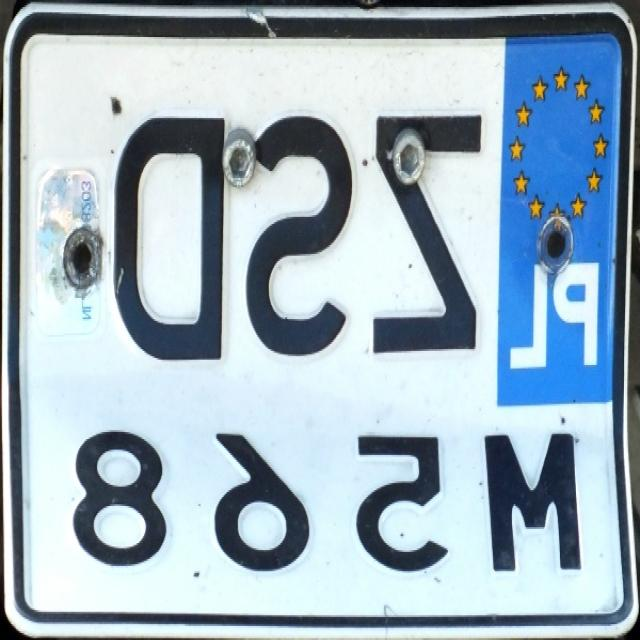pl_license_plate: (20, 35, 619, 612)
